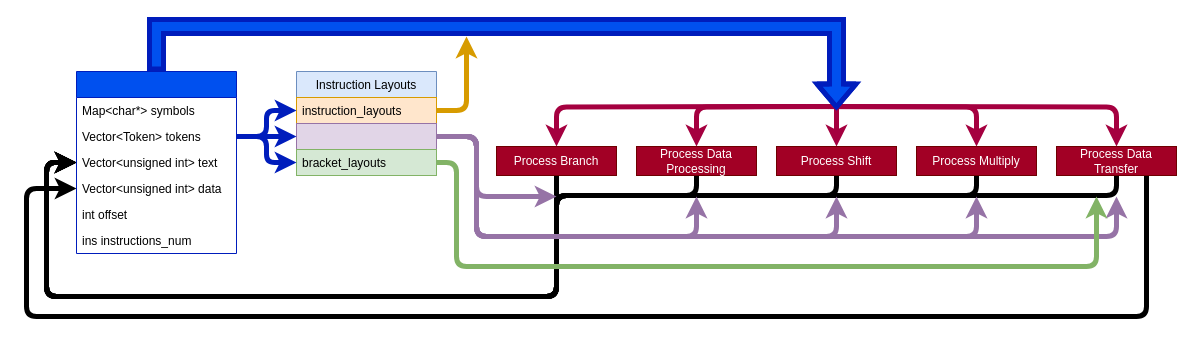
Image size: 1194x344. Some labels were removed from this diagram. Each missing label, with the box of its shape:
data_layouts: (296, 122, 436, 150)
FunctionGen: (76, 70, 236, 254)
